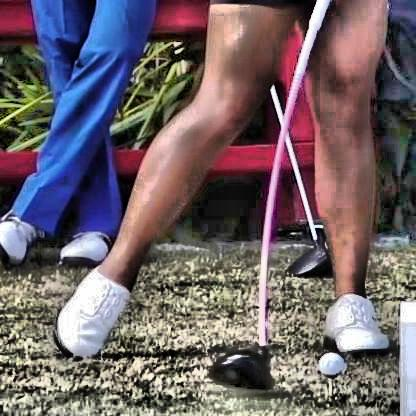golfball: (314, 349, 342, 374)
